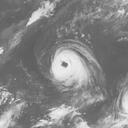cyclone: (50, 49, 89, 87)
